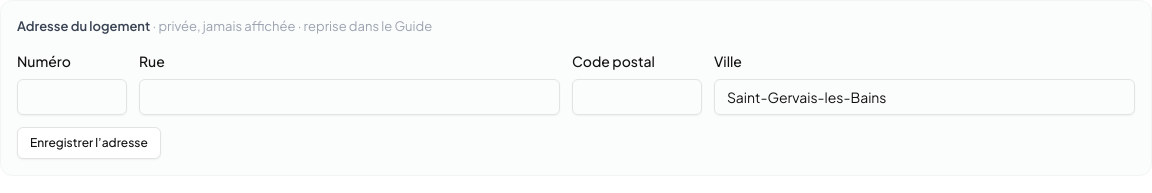
Scenario: 080 AC-03-02 — saisie de l’adresse dans Caractéristiques › pre-fills the city, saves the four parts and confirms
This screenshot has width=1152, height=193.
expect the field labelled "Ville" holds "Saint-Gervais-les-Bains": met, box x1=714 y1=78 x2=1135 y2=114
Type "12" into the field labelled "Numéro" at (72, 96), box x1=17 y1=78 x2=127 y2=114
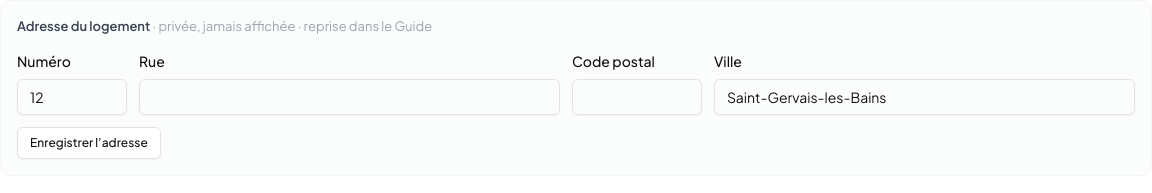
Type "rue des Alpages" into the field labelled "Rue" at (350, 96), box x1=139 y1=78 x2=560 y2=114
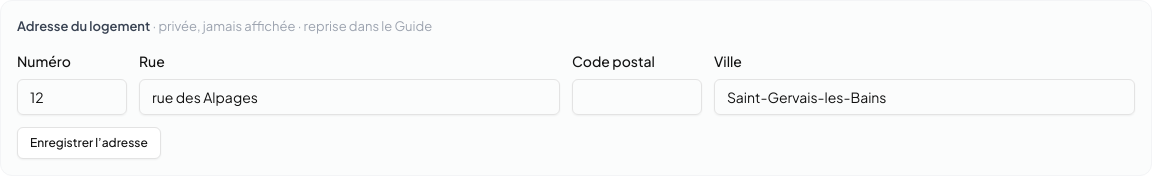
Type "74170" into the field labelled "Code postal" at (637, 96), box x1=572 y1=78 x2=702 y2=114
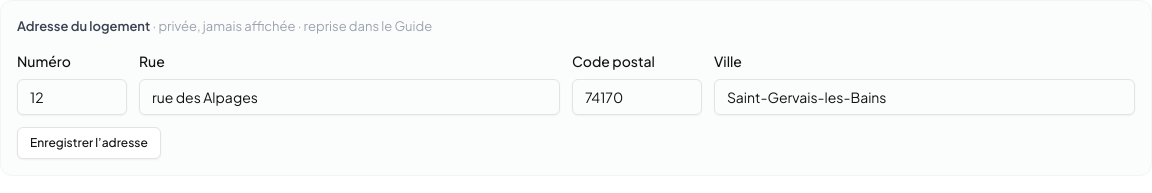
Click the button "Enregistrer l’adresse" at (89, 142), box x1=17 y1=126 x2=161 y2=158
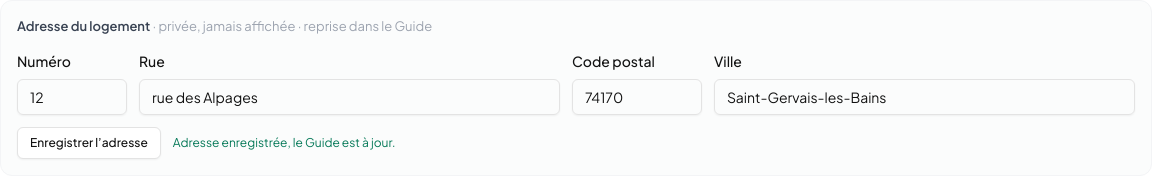
expect the message reads "Adresse enregistrée, le Guide est à jour.": met, box x1=173 y1=134 x2=395 y2=150
